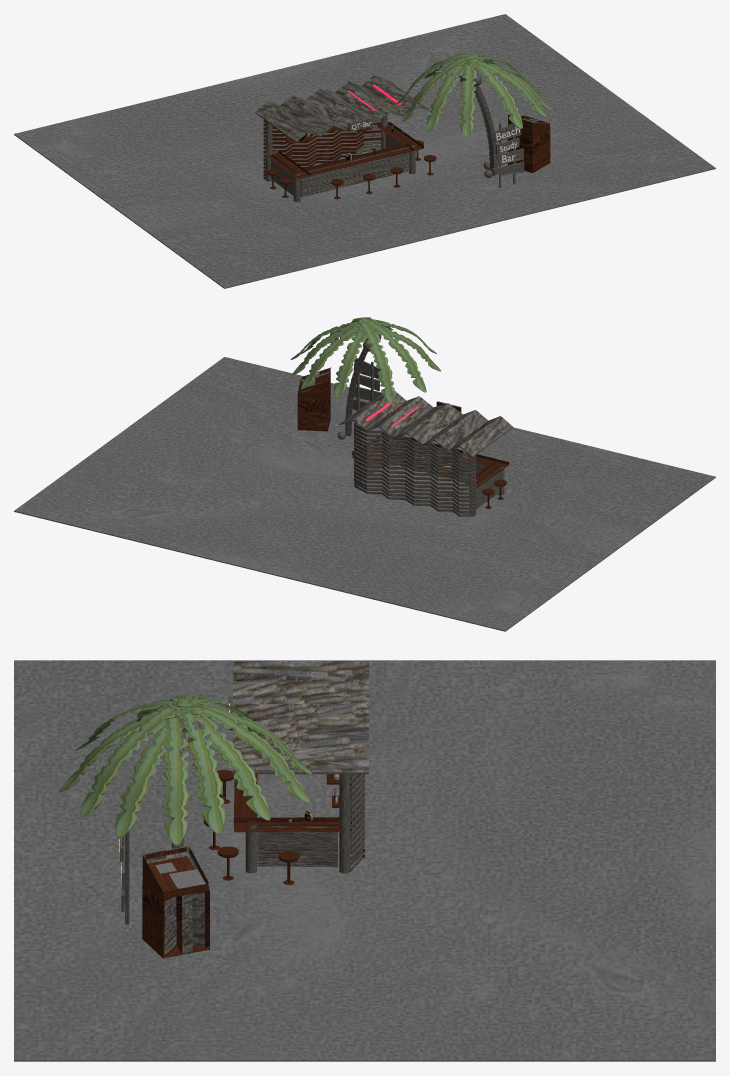
Rendered from beachScene.glb.
3 views of the same model, one above another, from view 1: azimuth 30°, elevation 25°; view 2: azimuth 150°, elevation 25°; view 3: azimuth 270°, elevation 25° (orthographic). The views are drawn at different scales.
Parts seen in each view (by area): view 1: Floor, Bar, Tree, JukeBox, Sign, BarStools; view 2: Floor, Bar, Tree, JukeBox, Sign; view 3: Floor, Bar, Tree, JukeBox, BarStools, Sign, Cube.
Boxes of the visible parts, x1,y1,x2,y2 form: Floor: (14,14,715,288); Bar: (255,75,428,202); Tree: (396,53,551,177); JukeBox: (507,115,550,173); Sign: (492,123,524,187); BarStools: (267,140,436,199); Floor: (14,357,715,631); Bar: (339,391,512,516); Tree: (290,317,440,439); JukeBox: (297,367,330,431); Sign: (352,358,381,410); Floor: (14,660,715,1061); Bar: (229,661,368,873); Tree: (59,695,312,848); JukeBox: (142,845,209,958); BarStools: (203,770,299,884); Sign: (120,810,129,924); Cube: (155,862,205,889).
Bounding box in the file's own units: 19.61 × 4.7 × 14.55.
Materials: 7 (5 with a texture image).
